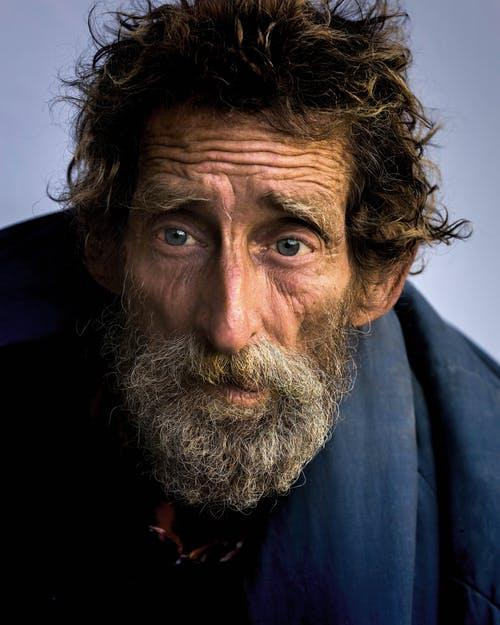Wrinkles: (154, 157, 316, 168), (194, 170, 264, 195), (187, 149, 324, 156), (295, 180, 335, 192), (150, 169, 190, 180), (265, 172, 309, 180), (192, 138, 266, 142), (155, 143, 190, 146)
